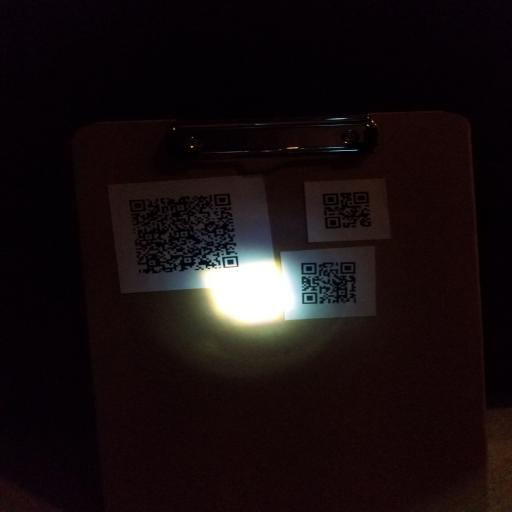QR_CODE: (119, 182, 247, 281), (287, 254, 370, 312), (313, 183, 382, 236)
